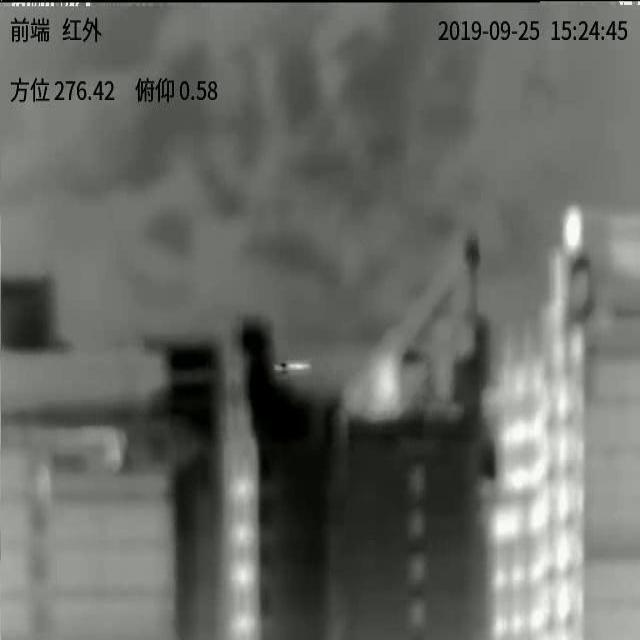drone: (274, 362, 310, 371)
